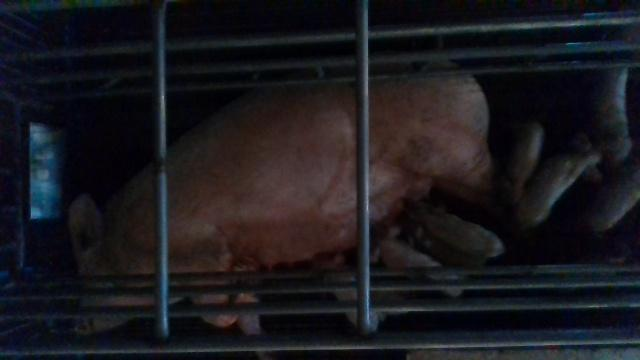piglet: (517, 136, 602, 226), (373, 224, 463, 298), (403, 201, 505, 258), (313, 253, 378, 335), (591, 64, 633, 168), (585, 159, 640, 235), (503, 119, 546, 205)
sow-sleep-lactate: (66, 61, 494, 334)
